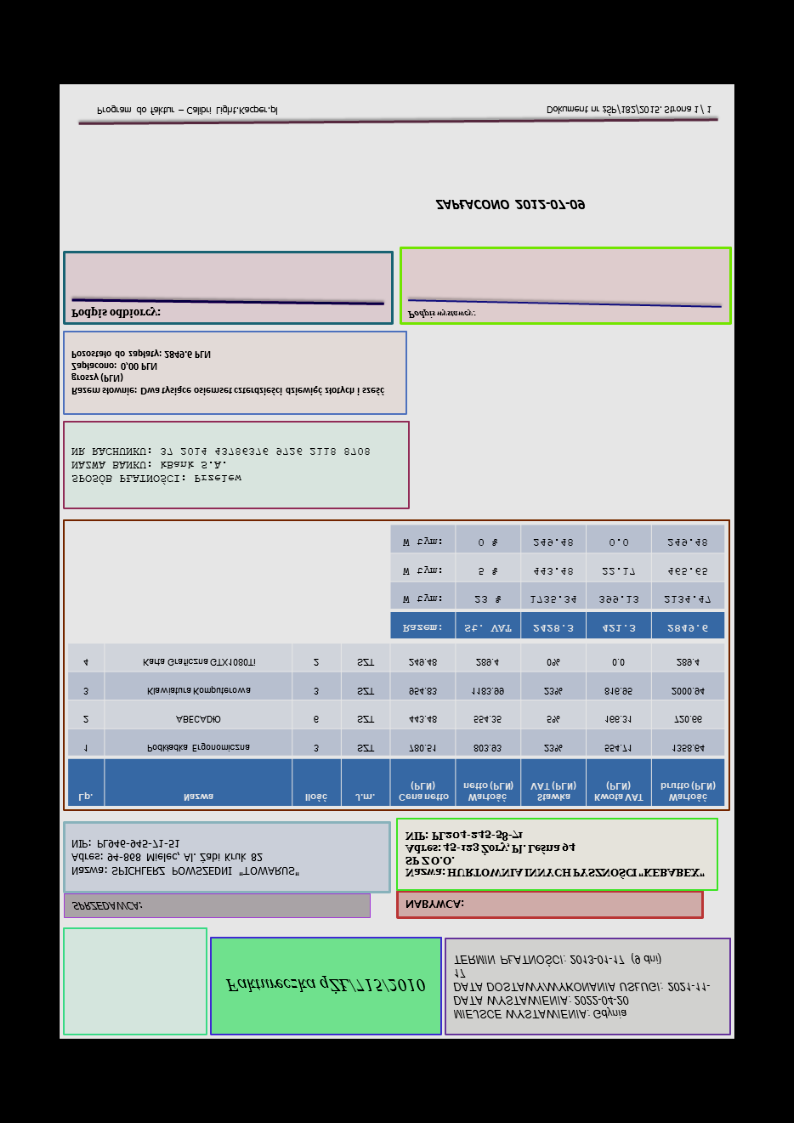Table: (66, 642, 723, 809), (389, 523, 726, 641)
TextBox: (451, 949, 712, 1023), (69, 347, 386, 400), (402, 829, 709, 881), (69, 443, 372, 487), (68, 835, 302, 882), (221, 974, 427, 997), (94, 102, 279, 119), (434, 196, 587, 214), (545, 102, 714, 118), (68, 304, 162, 323), (70, 899, 142, 915), (405, 308, 476, 324), (402, 896, 464, 912)
